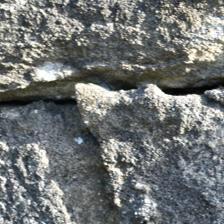Crack: (0, 128, 102, 220), (67, 73, 105, 118)
